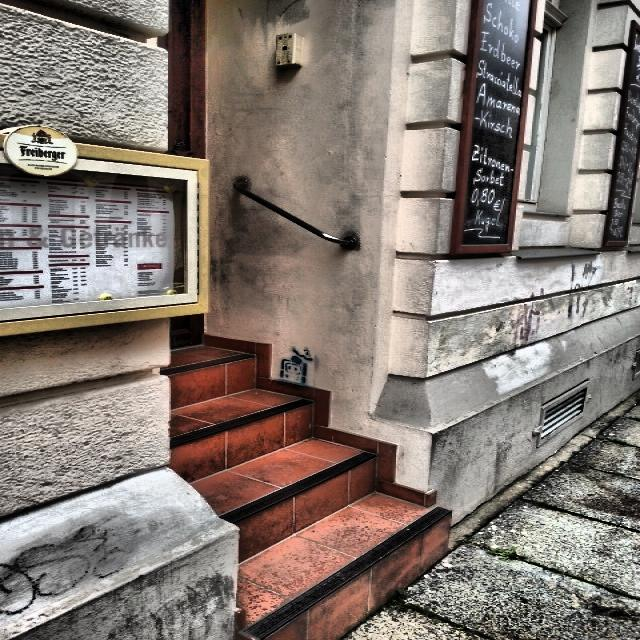escada: (168, 340, 445, 640)
